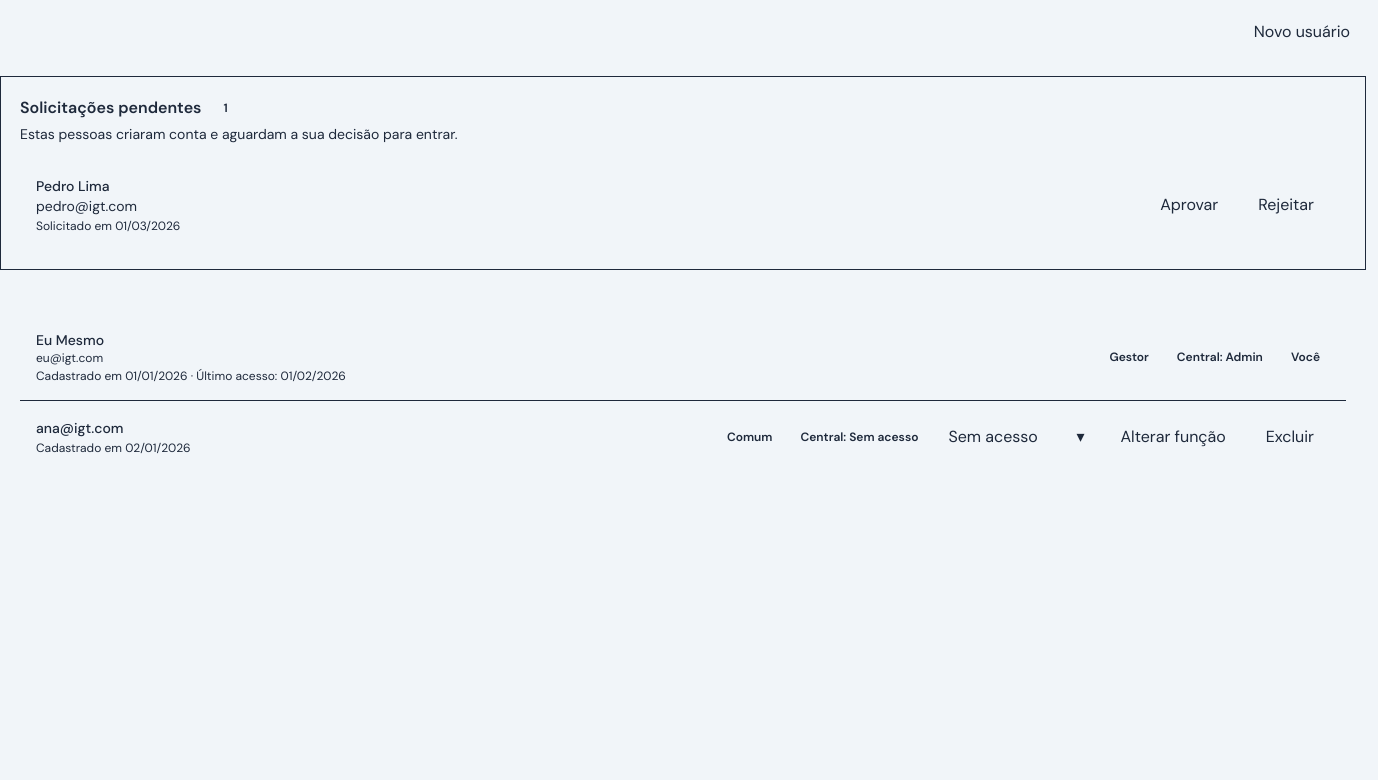
Test: Acesso à Central de Links › erro da API aparece na linha, sem alert do navegador
Expected: the list named "Usuários com acesso" is shown, [20, 314, 1346, 473]
Press Enter in the dropdown named "Acesso à Central de ana@igt.com", box [936, 417, 1096, 457]
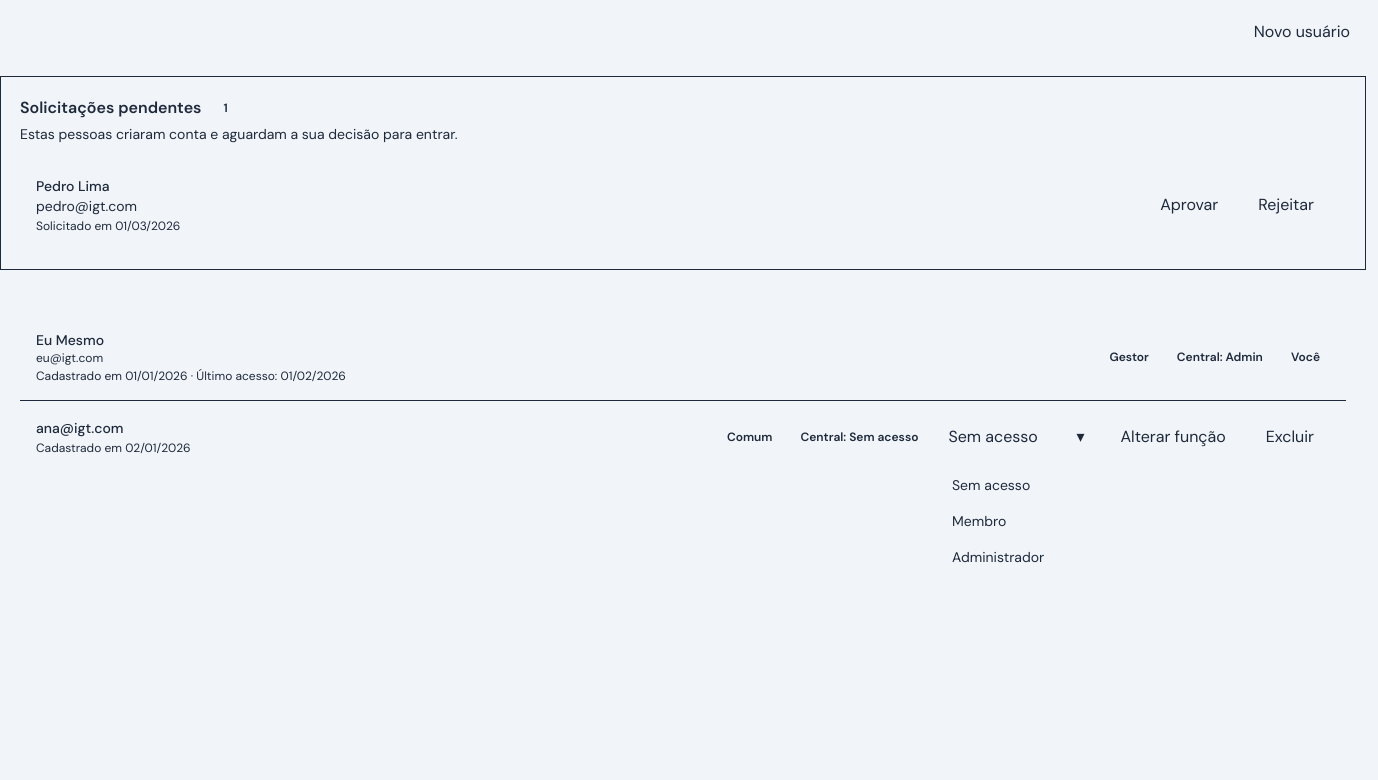
Click the option "Administrador" at (998, 557), box [952, 548, 1044, 566]
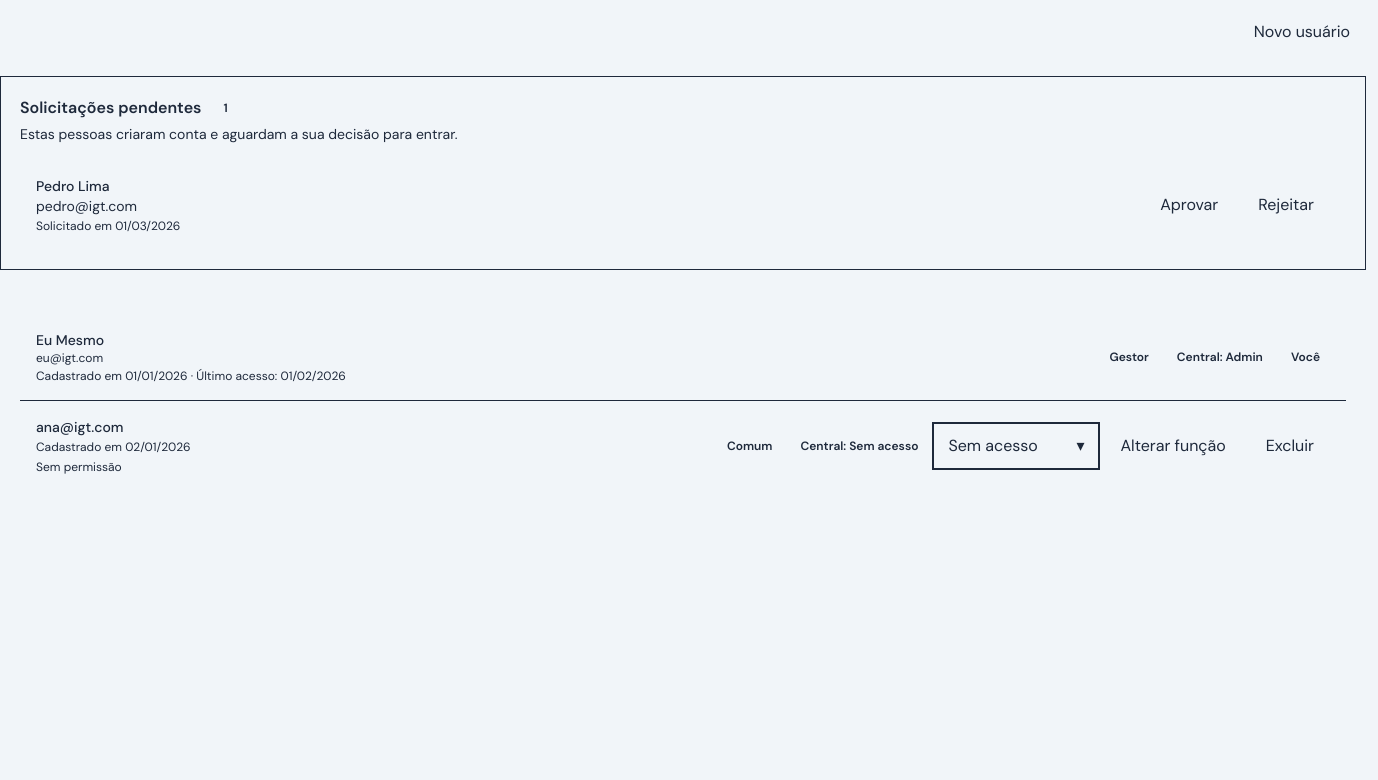
Expected: the message reads "Sem permissão", [36, 459, 122, 475]
